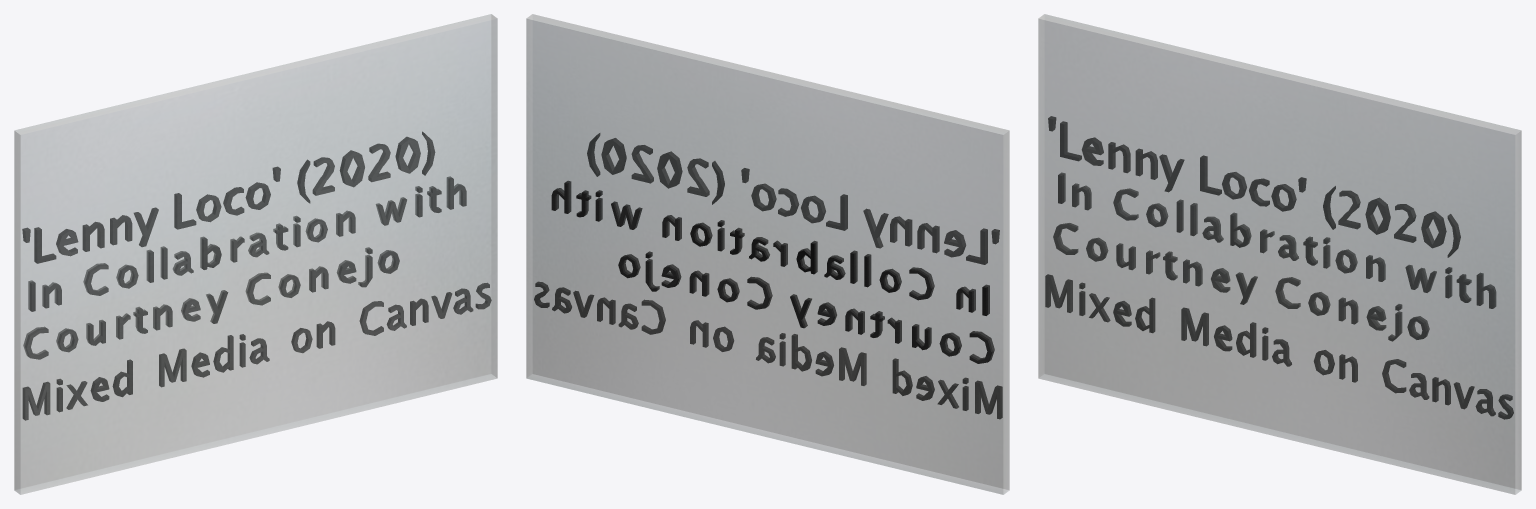
File: LennyLocoglassdisplayed.fbx
3 views of the same model, side by side, from view 1: azimuth 30°, elevation 25°; view 2: azimuth 150°, elevation 25°; view 3: azimuth 330°, elevation 25° (orthographic).
Parts seen in each view (by area): view 1: pCube2, typeMesh2, typeMesh, typeMesh1; view 2: pCube2, typeMesh2, typeMesh, typeMesh1; view 3: pCube2, typeMesh2, typeMesh, typeMesh1.
Boxes of the visible parts, box(x1,y1,x2,y2) form: pCube2: box(14, 14, 497, 494); typeMesh2: box(23, 176, 466, 359); typeMesh: box(22, 131, 435, 263); typeMesh1: box(22, 283, 491, 420); pCube2: box(526, 14, 1009, 494); typeMesh2: box(551, 181, 994, 363); typeMesh: box(587, 133, 999, 264); typeMesh1: box(534, 281, 1002, 419); pCube2: box(1038, 14, 1521, 494); typeMesh2: box(1053, 172, 1495, 341); typeMesh: box(1048, 116, 1460, 257); typeMesh1: box(1045, 274, 1513, 419).
Size of the model in its own units: 8.22 by 5.93 by 0.2344.
